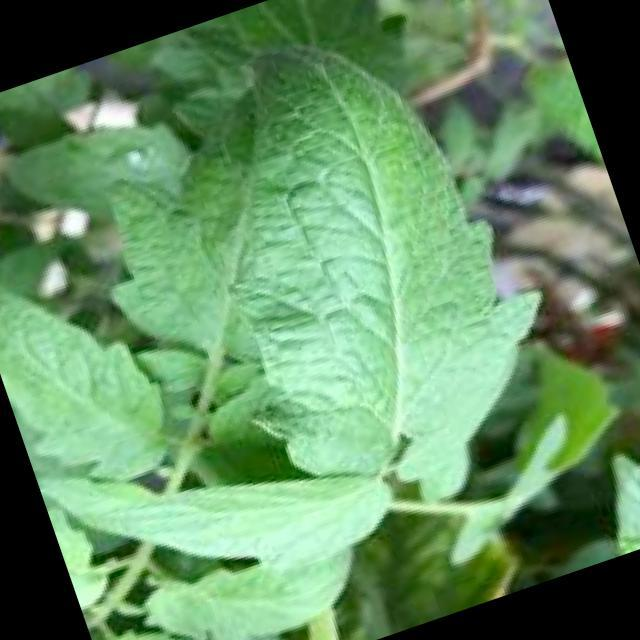Tomato healthy leaf: (141, 0, 585, 526), (36, 371, 408, 640), (0, 215, 186, 507)
